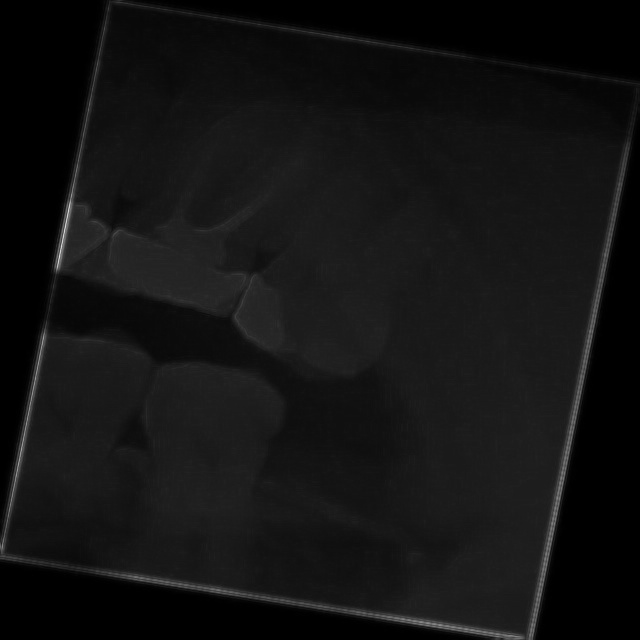Class 1- complete endodontic treatment: (87, 54, 353, 363)
